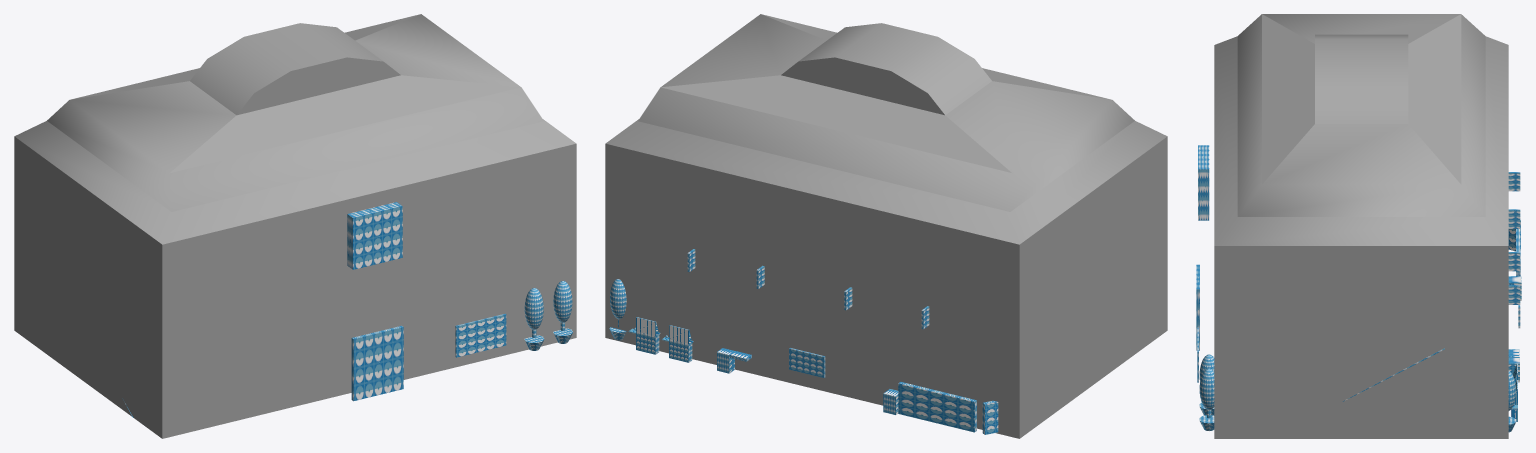
File: center_proxy.fbx
3 renders of one model, left to right at view 1: azimuth 30°, elevation 25°; view 2: azimuth 150°, elevation 25°; view 3: azimuth 270°, elevation 25°, orthographic.
Visible parts, largest first — view 1: pasted__pCube20, pasted__pCube4, pasted__pCube17, pasted__pasted__pCube4, pasted__pSphere3, pasted__pasted__pSphere3; view 2: pasted__pCube20, pasted__pCube7, pasted__pCube8, pasted__pasted__pCube13, pasted__pCube13, pasted__pasted__pCube7, pasted__pasted__pSphere3; view 3: pasted__pCube20, pasted__pCube17, pasted__pSphere3, pasted__pCube4.
Part boxes in pixels (x1,y1,x2,y2): pasted__pCube20: (14,14,576,438); pasted__pCube4: (351,325,403,401); pasted__pCube17: (347,202,402,269); pasted__pasted__pCube4: (455,313,506,357); pasted__pSphere3: (553,281,572,322); pasted__pasted__pSphere3: (524,288,543,329); pasted__pCube20: (605,14,1167,438); pasted__pCube7: (898,382,976,432); pasted__pCube8: (789,348,825,377); pasted__pasted__pCube13: (628,317,660,354); pasted__pCube13: (662,325,693,362); pasted__pasted__pCube7: (982,400,998,434); pasted__pasted__pSphere3: (610,279,626,319); pasted__pCube20: (1214,14,1508,438); pasted__pCube17: (1198,145,1209,220); pasted__pSphere3: (1199,368,1214,409); pasted__pCube4: (1196,264,1199,350).
Size of the model in its own units: 211 by 140 by 144.
Materials: 2 (1 with a texture image).
